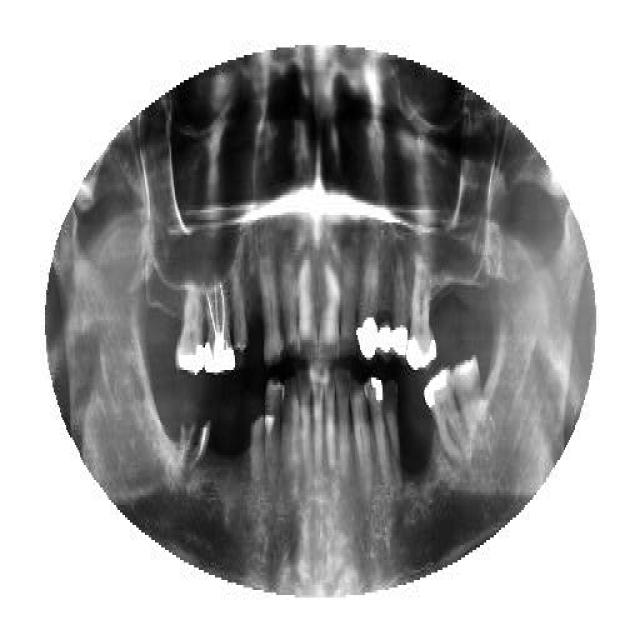Cavity: (231, 270, 251, 372), (188, 412, 212, 472), (176, 408, 198, 470), (249, 408, 265, 480)
Fillings: (424, 362, 466, 462), (172, 280, 206, 375), (408, 260, 437, 370), (356, 245, 380, 363), (364, 378, 388, 488), (394, 252, 408, 360), (378, 312, 393, 352)
Implant: (203, 275, 235, 375)
